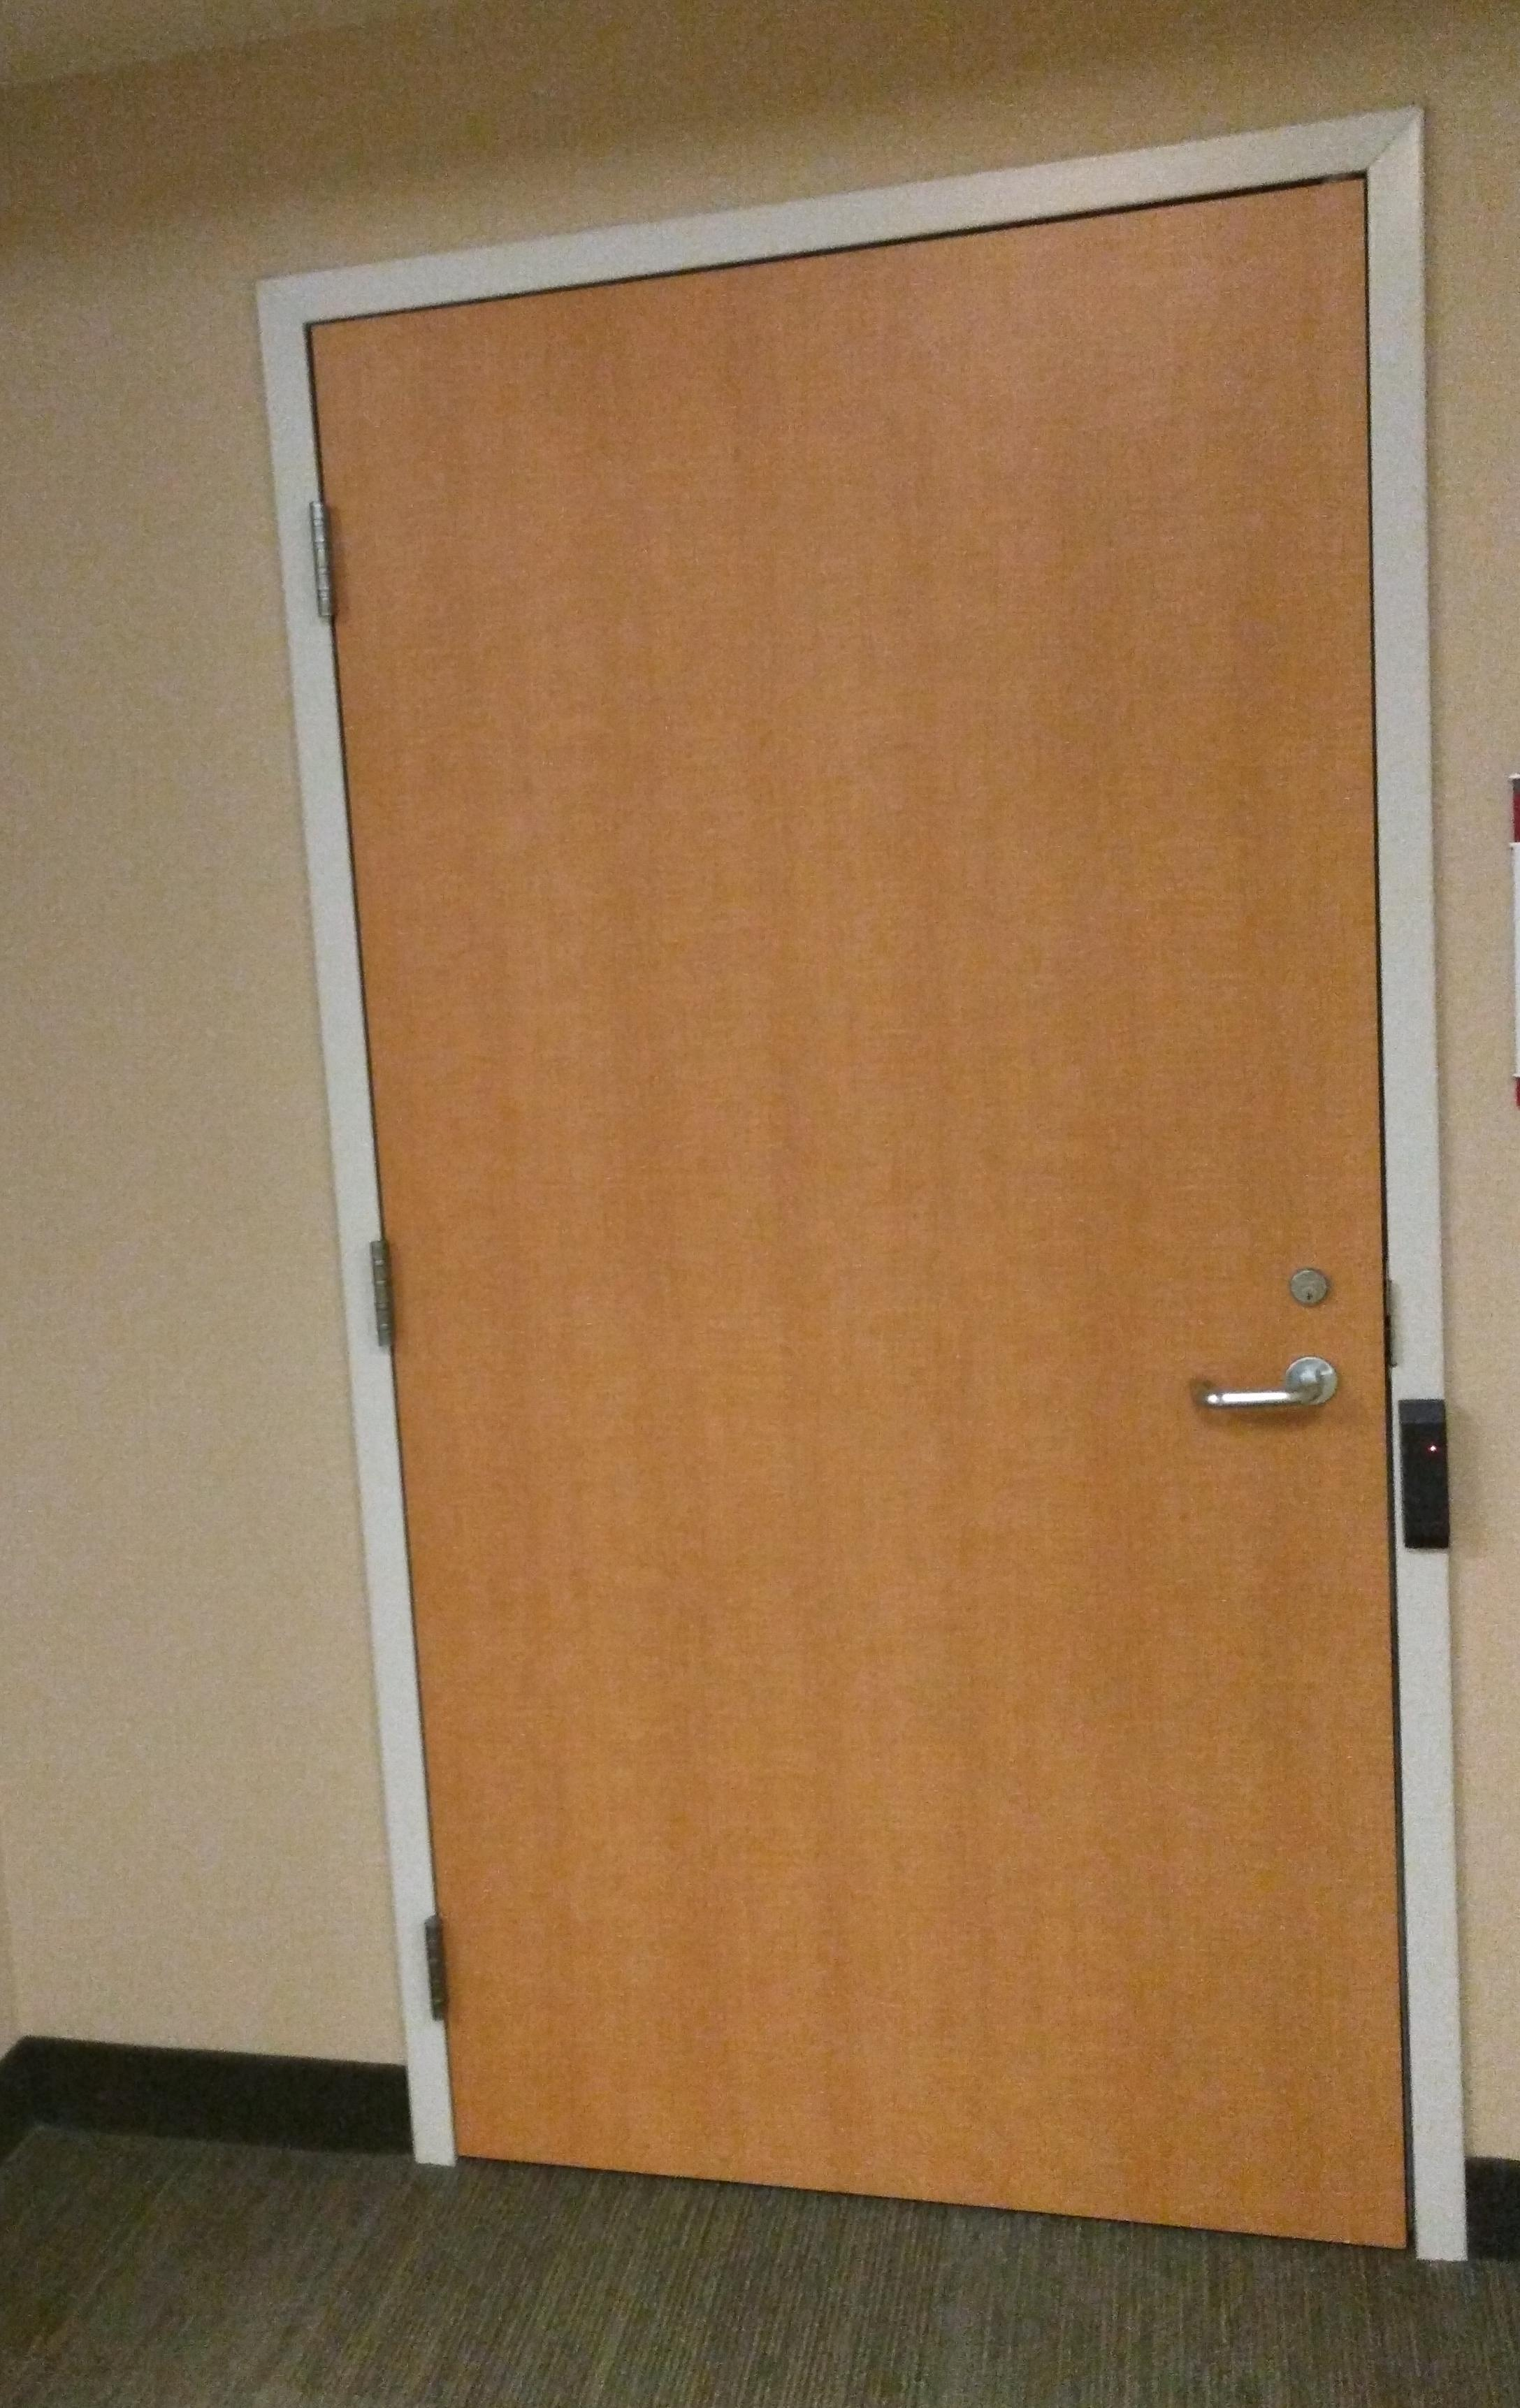door: (368, 157, 1362, 2284)
